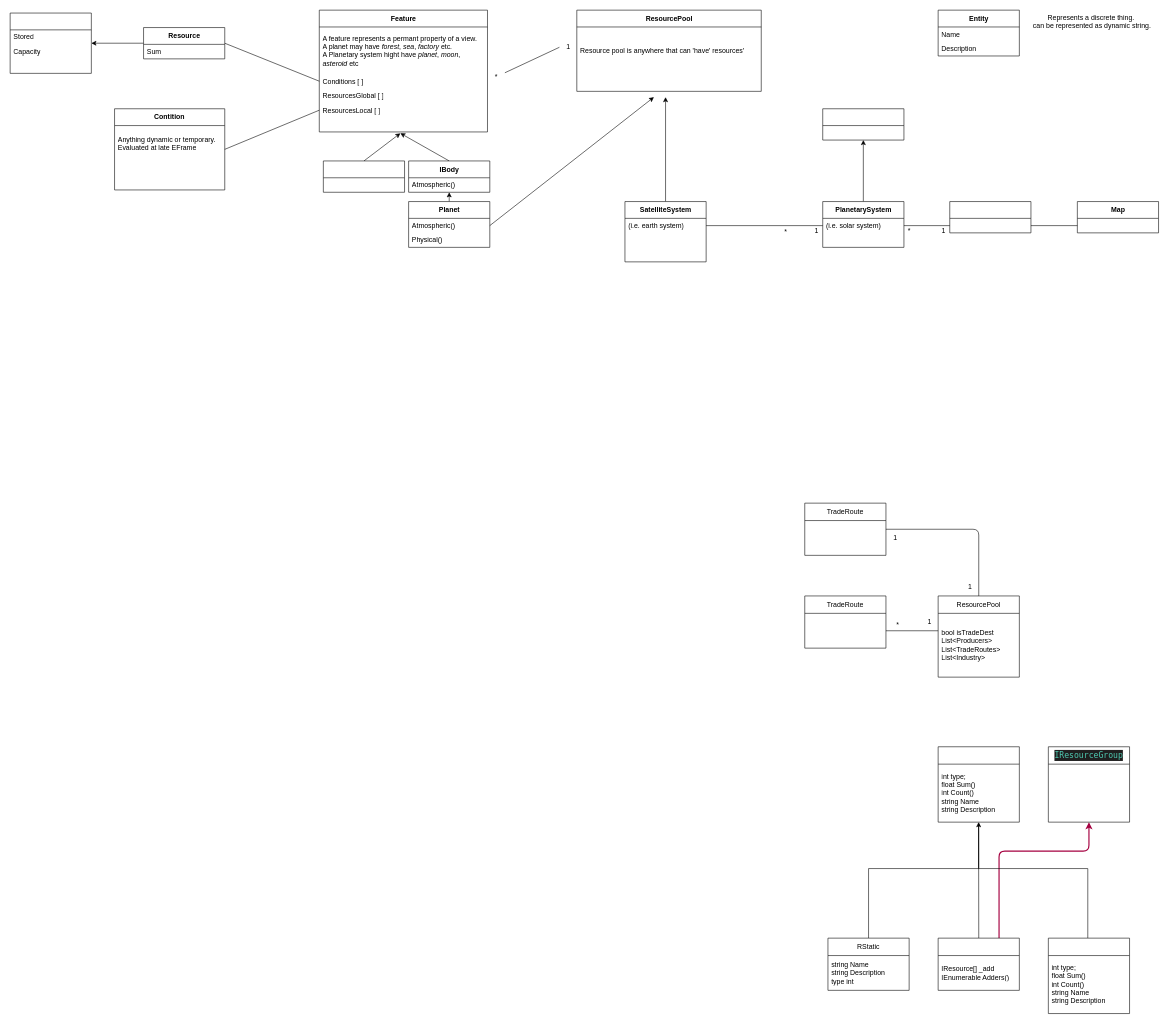
The diagram is 1169 pixels wide and 1024 high, and some of its shapes have lost their labels. The box of each missing label's shape, as (x1, y1, x2, y2) in pixels:
Galaxy: (949, 201, 1031, 233)
Industry: (323, 160, 405, 192)
IRequestable: (1048, 938, 1130, 1014)
IResource: (938, 746, 1019, 822)
ResourceAccrul: (10, 12, 91, 73)
RGroup<T>: (938, 938, 1019, 990)
View: (822, 108, 904, 140)
